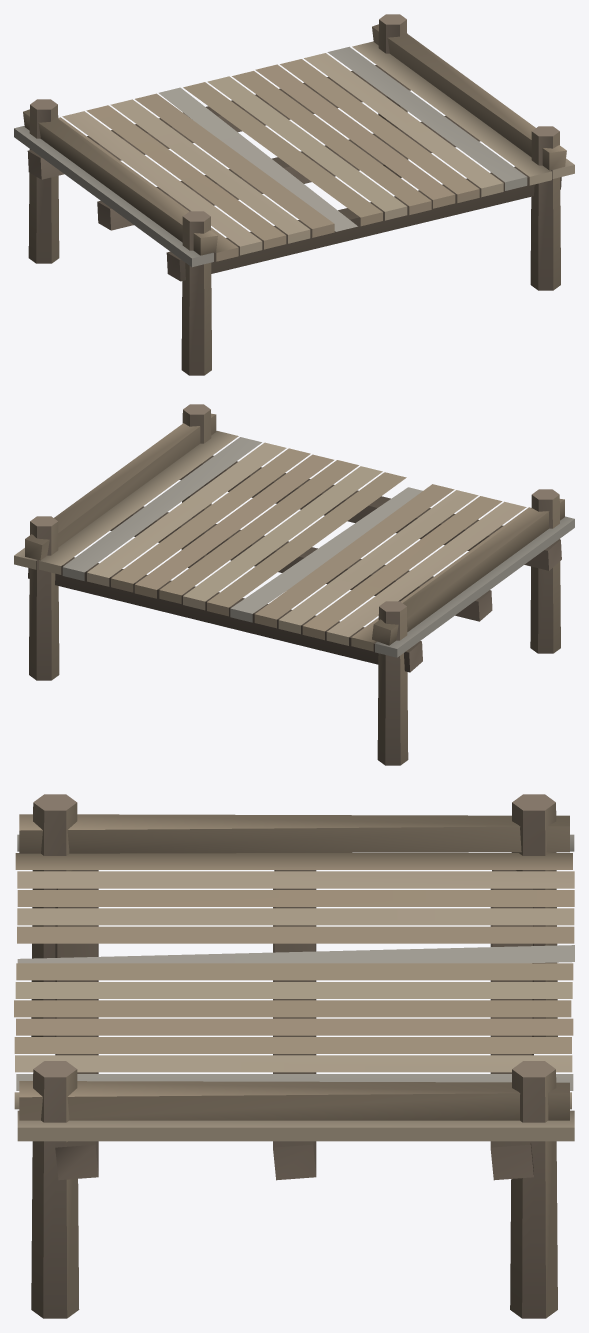
The model's file is dock.lod1.glb.
The picture shows the model from 3 angles, top to bottom: view 1: azimuth 30°, elevation 25°; view 2: azimuth 150°, elevation 25°; view 3: azimuth 270°, elevation 25°; orthographic projection. The views are drawn at different scales.
Bounding box in the file's own units: 3.18 × 1.22 × 2.58.
